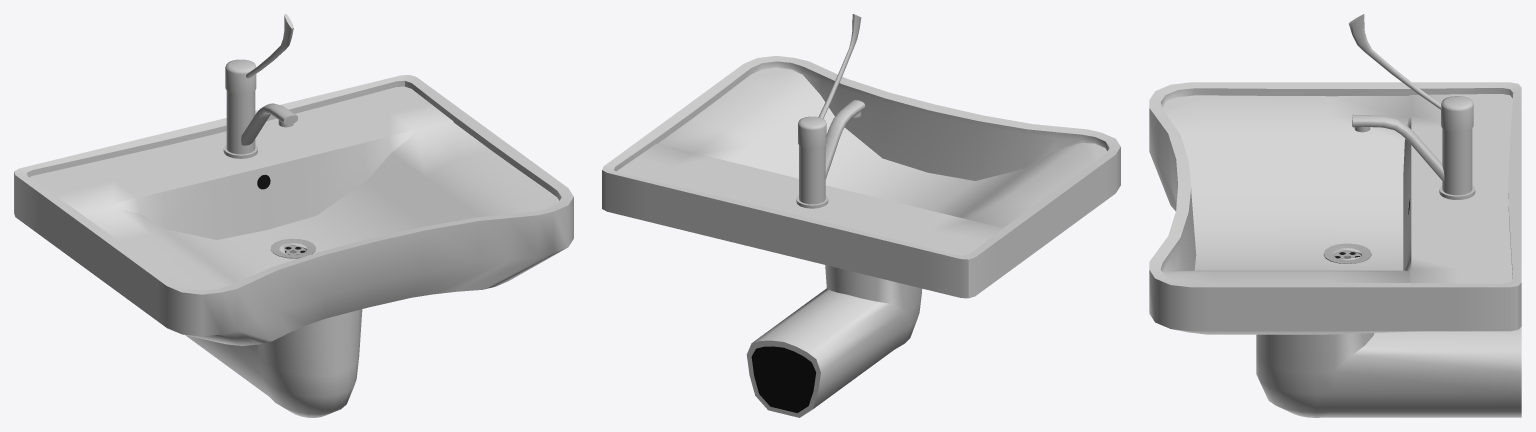
File: sh_scopia_ergonomic_washbasin.glb
3 views of the same model, side by side, from view 1: azimuth 30°, elevation 25°; view 2: azimuth 150°, elevation 25°; view 3: azimuth 270°, elevation 25° (orthographic). The views are drawn at different scales.
Bounding box in the file's own units: 0.6 × 0.538 × 0.46.
Materials: 5 (1 with a texture image).
